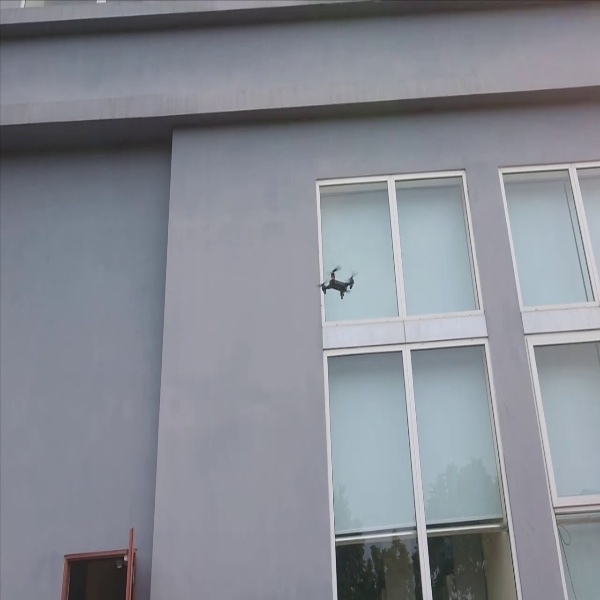drone: (317, 261, 365, 304)
